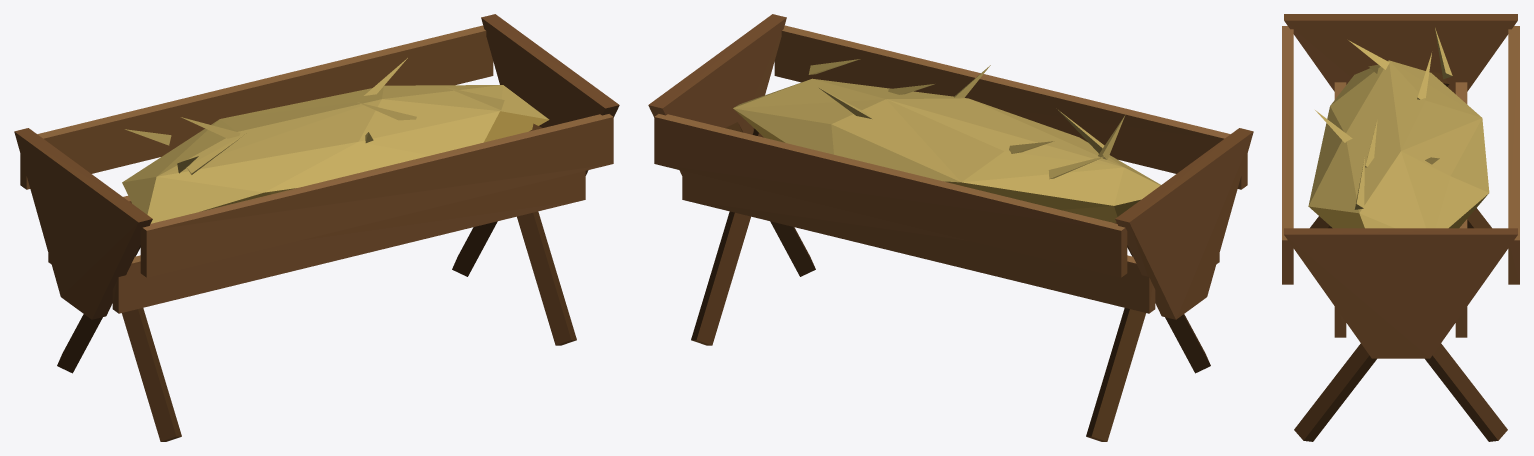
Rendered from trough.glb.
3 renders of one model, left to right at view 1: azimuth 30°, elevation 25°; view 2: azimuth 150°, elevation 25°; view 3: azimuth 270°, elevation 25°, orthographic. The views are drawn at different scales.
Visible parts, largest first — view 1: base; view 2: base; view 3: base.
Boxes of the visible parts, x1,y1,x2,y2 form: base: (14, 14, 619, 441); base: (648, 14, 1253, 441); base: (1282, 14, 1519, 441).
Size of the model in its own units: 0.536 by 0.2769 by 0.244.
